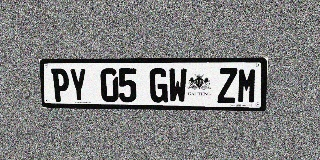0: (100, 68, 119, 102)
5: (118, 68, 137, 102)
G: (149, 68, 168, 103)
M: (237, 68, 258, 104)
P: (51, 68, 70, 102)
W: (168, 68, 187, 103)
Y: (69, 68, 88, 102)
Z: (217, 68, 237, 103)
